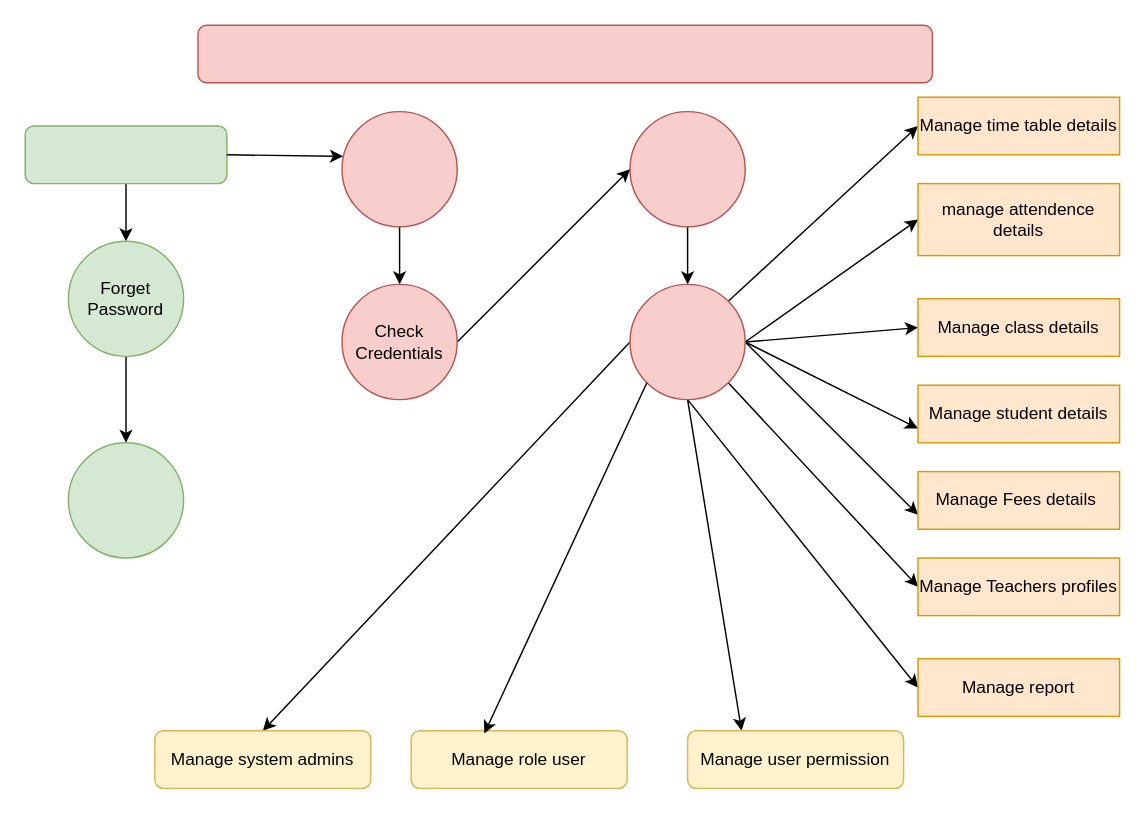
Image size: 1145x814. Some labels were removed from this diagram. Here are the shapes that lost their labels. From the top down, the box of each, then its label:
(197, 24, 932, 83): Student Information System
(24, 125, 227, 184): Admin
(341, 110, 457, 227): Login To System
(629, 110, 745, 227): Check Role of access
(629, 283, 745, 400): Manage Modules
(67, 441, 184, 558): Send email to user
